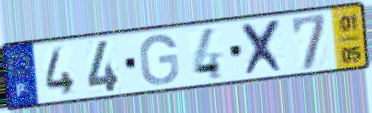4: (85, 37, 123, 95), (188, 26, 227, 82), (44, 45, 78, 96)
7: (289, 11, 328, 72)
G: (137, 32, 181, 87)
X: (238, 17, 288, 78)
